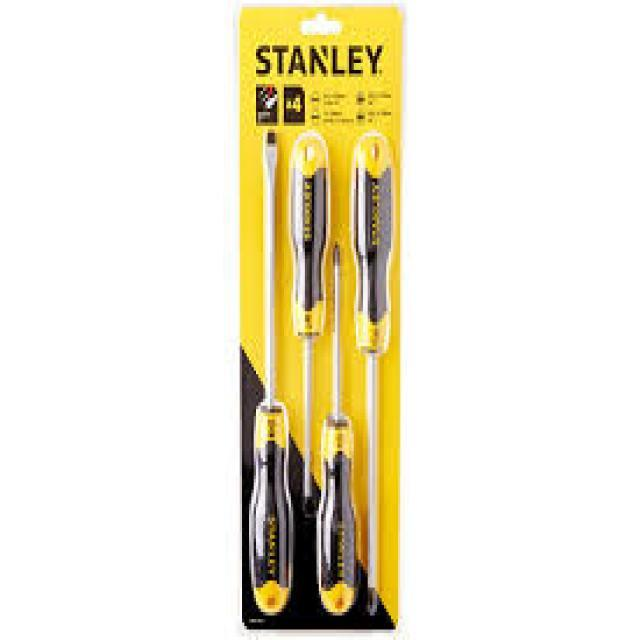screwdriver: (249, 125, 296, 616), (352, 131, 396, 614), (288, 135, 332, 512), (314, 238, 354, 616)
